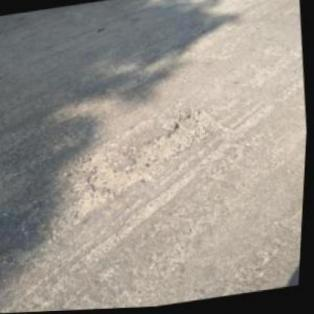Hueco: (62, 106, 229, 221)
